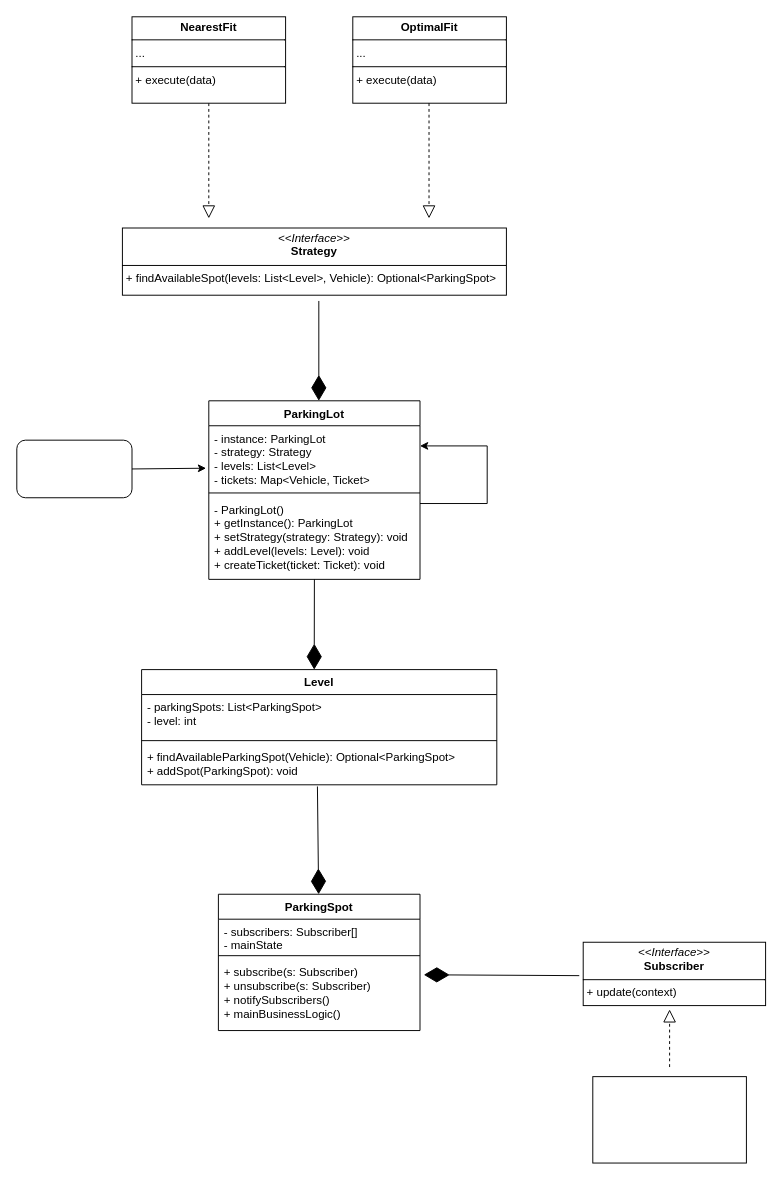
Image size: 782x1180. Some labels were removed from this diagram. Here are the shapes that lost their labels. From the top down, the centre of each, then its label:
[74,468]: Client
[669,1119]: DisplayBoard ... + update(context)
